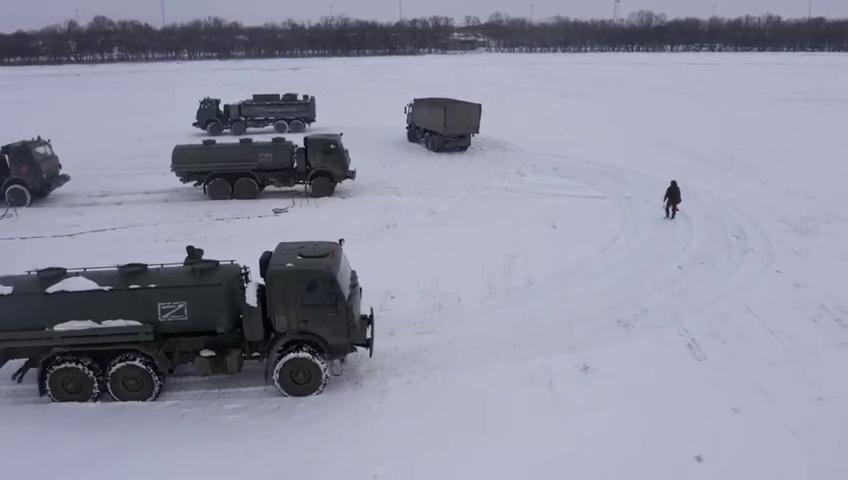person: (662, 180, 682, 220)
truck: (0, 237, 377, 402), (170, 133, 358, 200), (192, 92, 316, 136), (0, 134, 69, 210), (404, 98, 482, 154)
